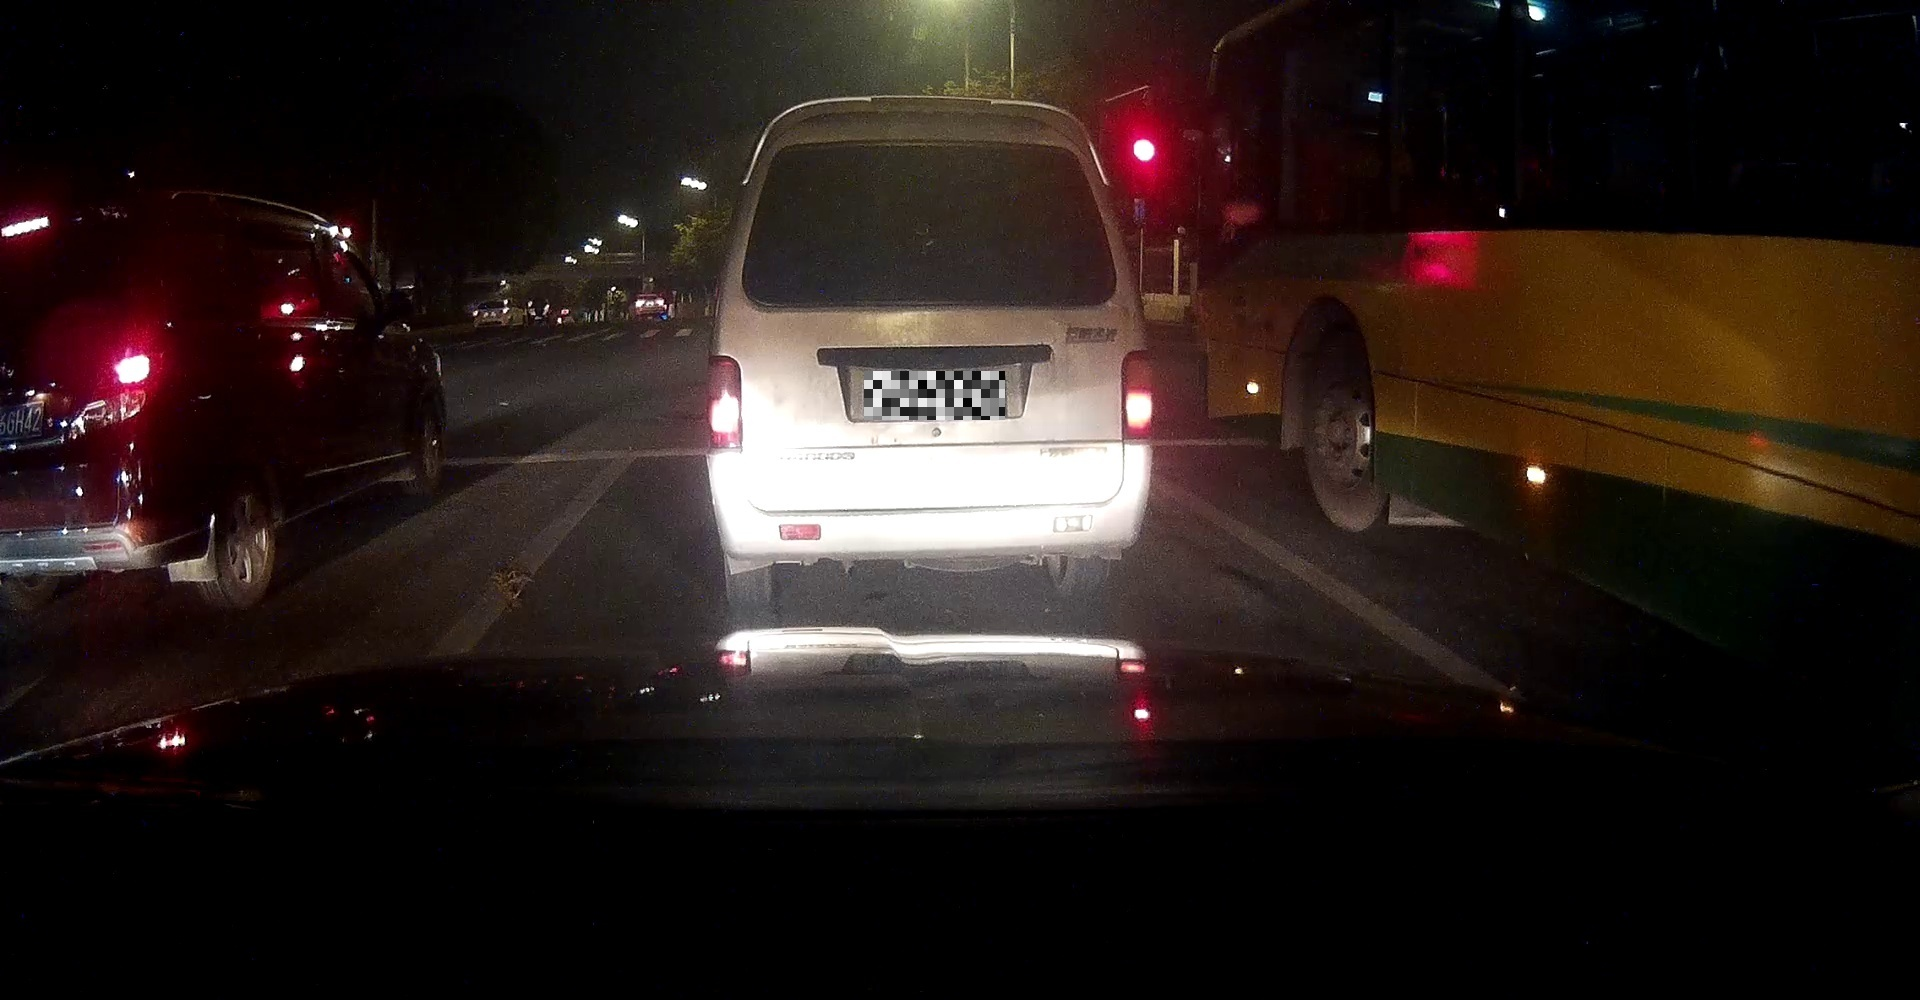L_light: (701, 357, 742, 451)
R_light: (1121, 352, 1156, 443)
T_light: (890, 143, 961, 161)
night-no: (701, 94, 1157, 610)
plate_1: (863, 371, 1004, 420)
